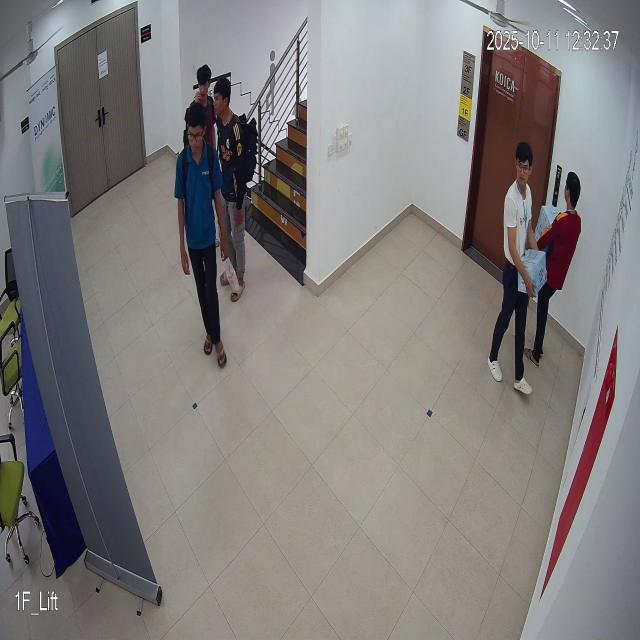face: (184, 94, 211, 166), (514, 138, 535, 190)
